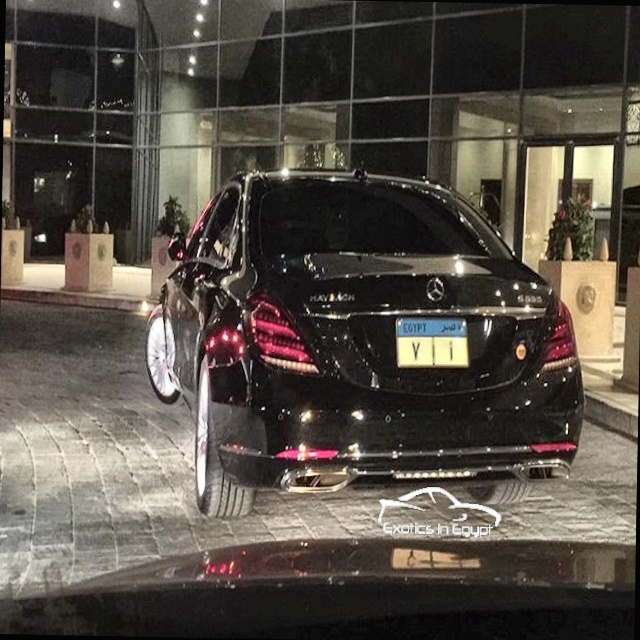License Plate: (394, 315, 471, 372)
